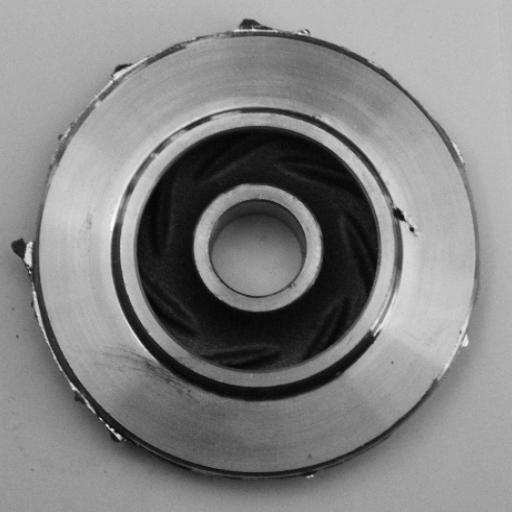casting_with_burr: (7, 15, 482, 485)
crack: (378, 194, 432, 251)
scratch: (365, 268, 412, 352)
stain: (105, 324, 217, 414)
